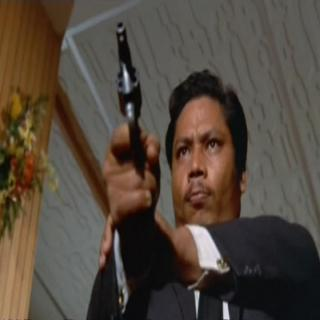gun: (93, 12, 173, 212)
